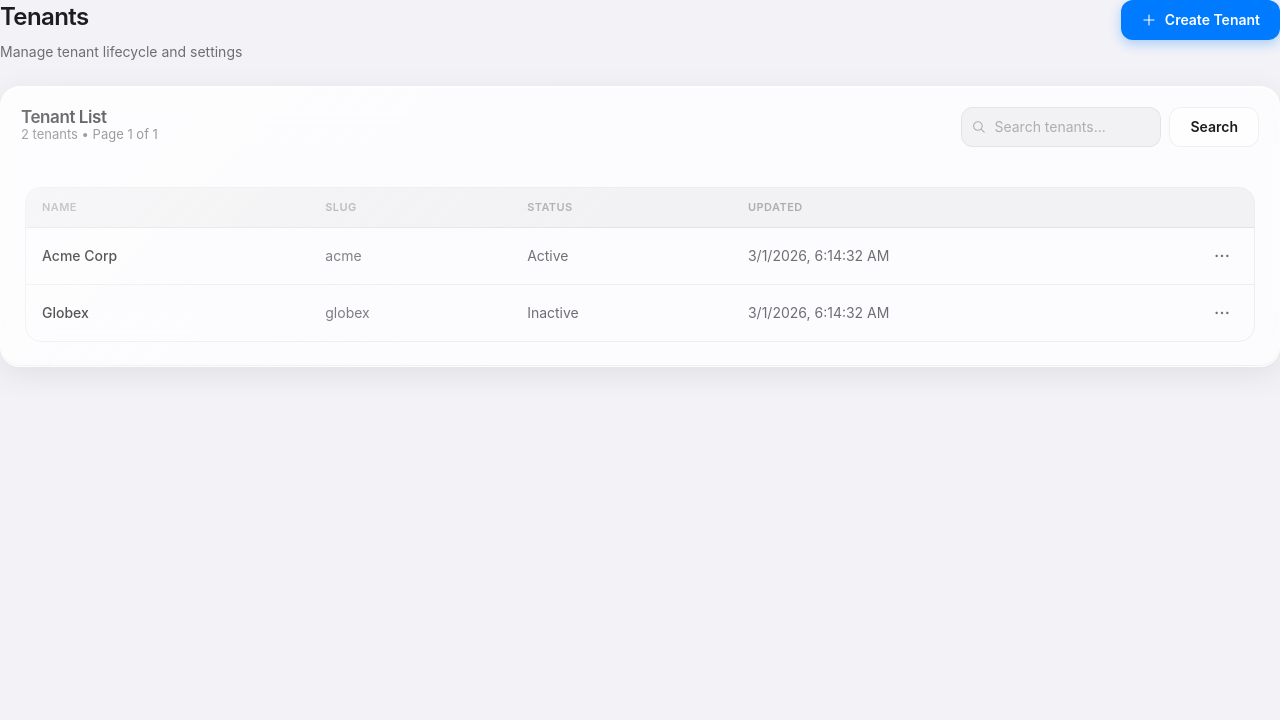
Tenants Page › closes edit dialog when cancel button is clicked
// Open dropdown and click Edit
Click the button named "open menu" in the row of "Acme Corp" at (1222, 256), box [1206,240,1238,272]
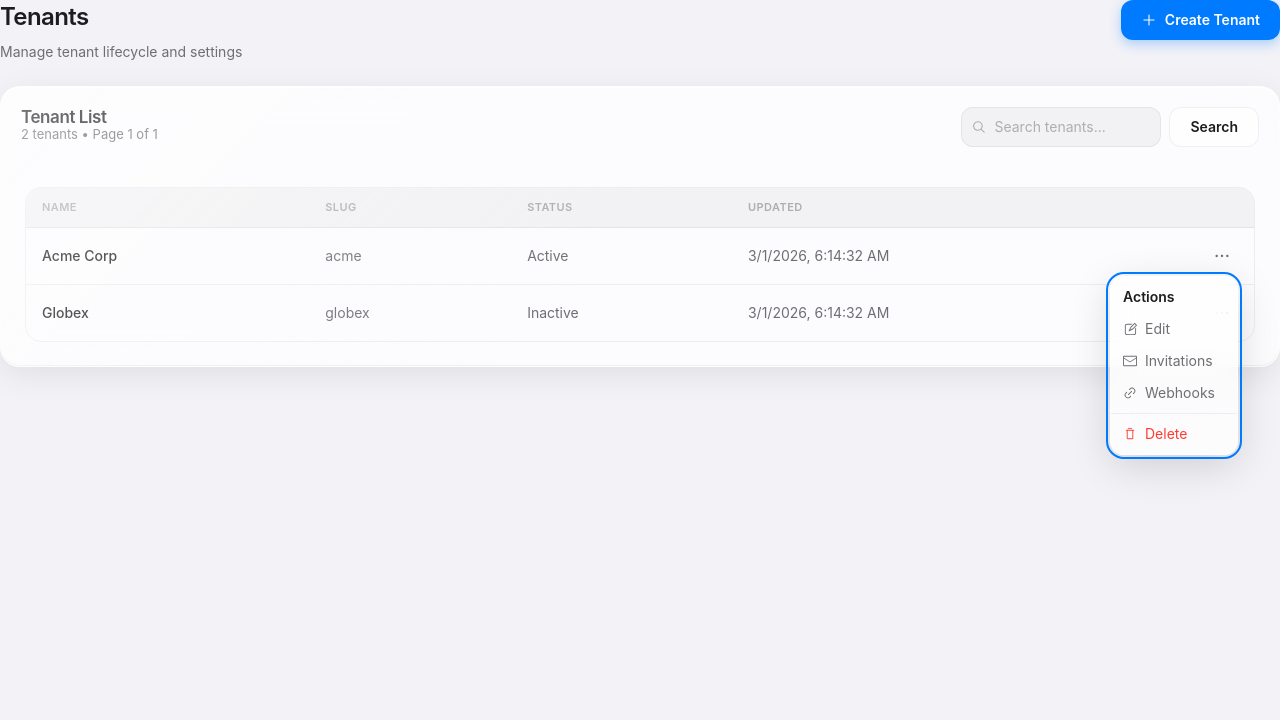
Click the menu item "Edit" at (1146, 328), box [1123,320,1170,337]
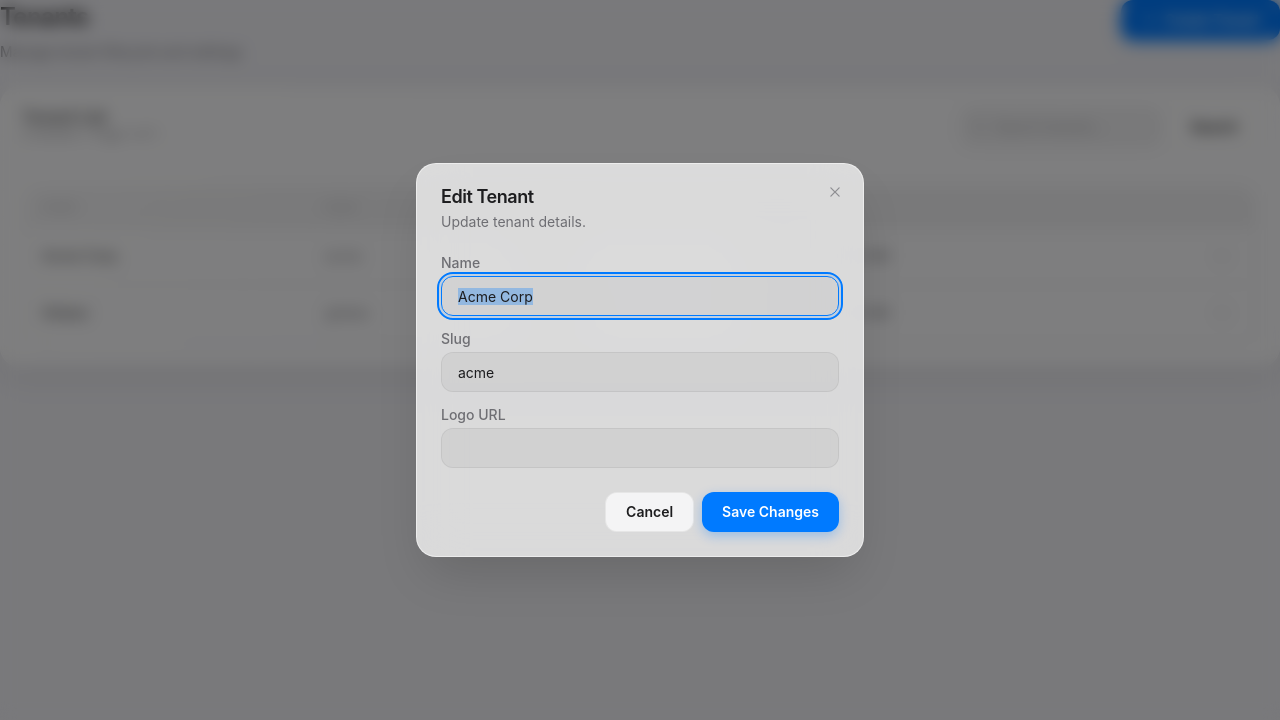
Now the dialog is shown, box [416,163,864,557]
// Click cancel
Click the button "Cancel" at (650, 512), box [605,492,694,532]
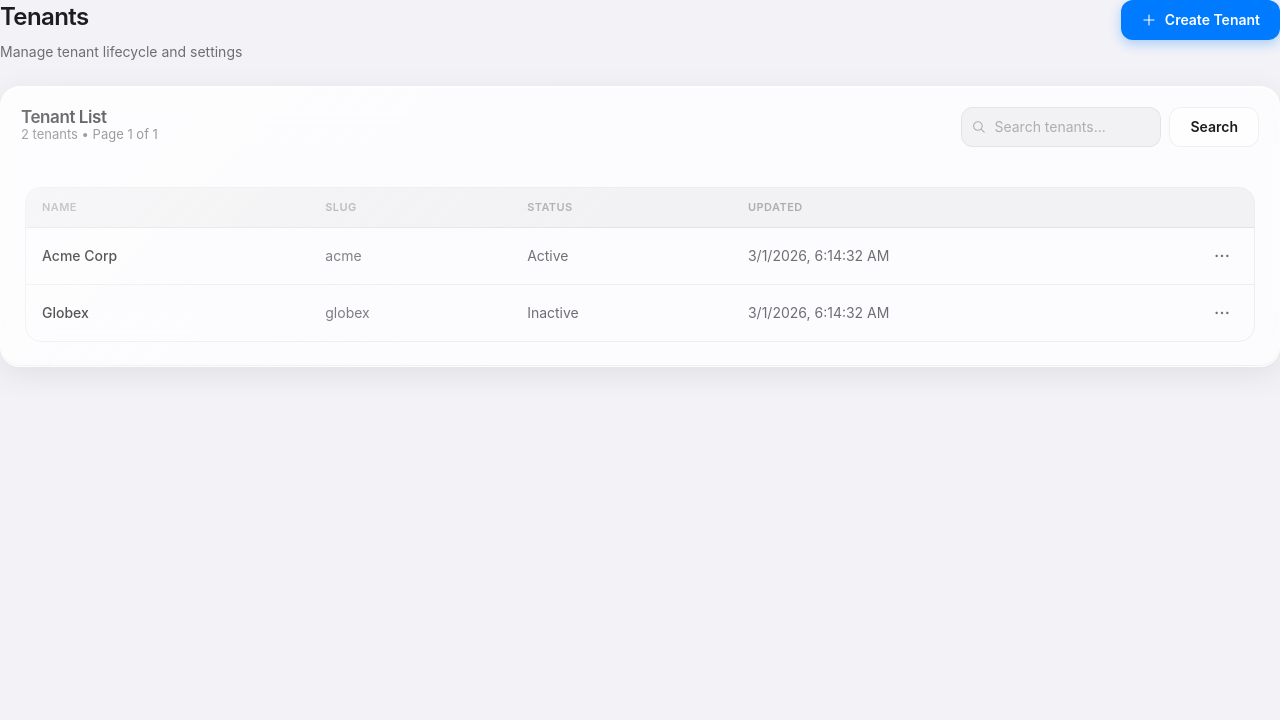
Now the dialog is gone
